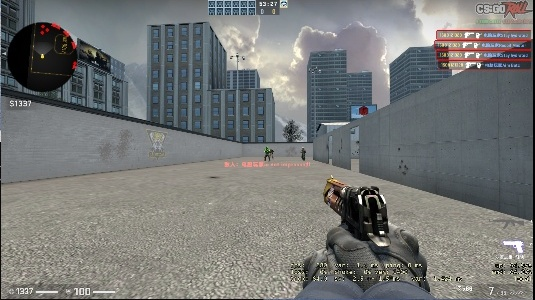body: (300, 147, 307, 160), (264, 147, 270, 161), (270, 149, 275, 159), (265, 146, 269, 150), (271, 148, 273, 152), (302, 147, 304, 150)
